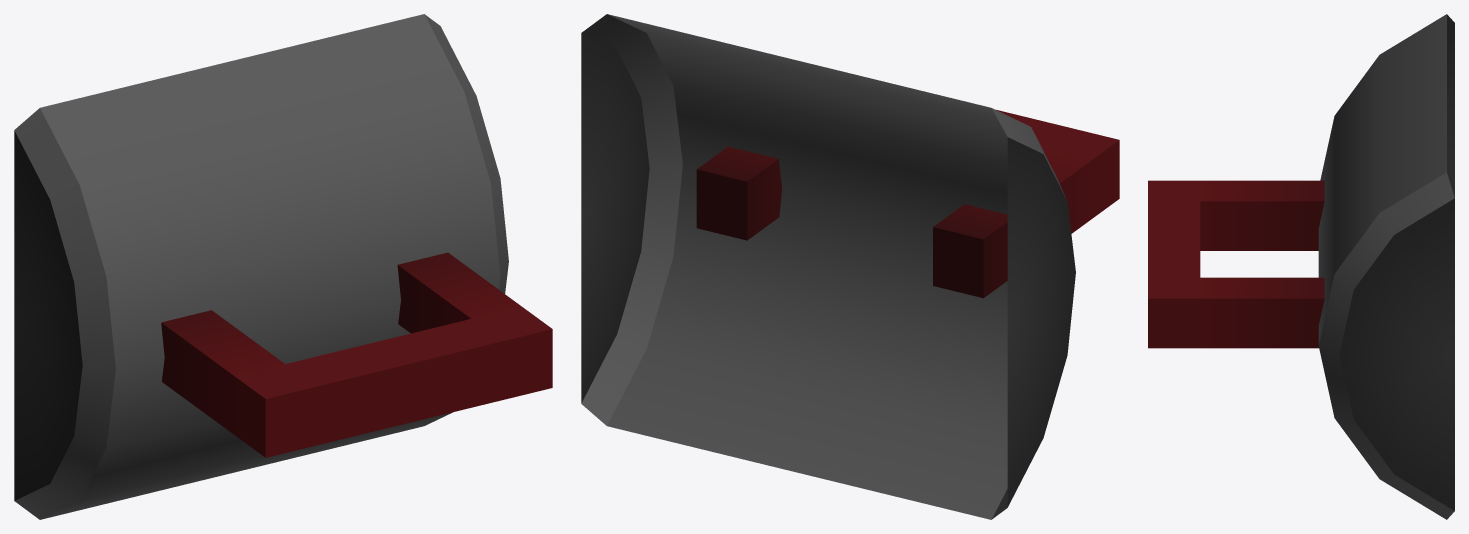
File: Switch.fbx
The picture shows the model from 3 angles, left to right: view 1: azimuth 30°, elevation 25°; view 2: azimuth 150°, elevation 25°; view 3: azimuth 270°, elevation 25°; orthographic projection. The views are drawn at different scales.
Visible parts, largest first — view 1: pCylinder7; view 2: pCylinder7; view 3: pCylinder7.
Part boxes in pixels (bbox=[...]): pCylinder7: bbox=[14, 14, 552, 519]; pCylinder7: bbox=[581, 14, 1119, 519]; pCylinder7: bbox=[1148, 14, 1454, 519].
Size of the model in its own units: 0.3214 by 0.2969 by 0.2373.
